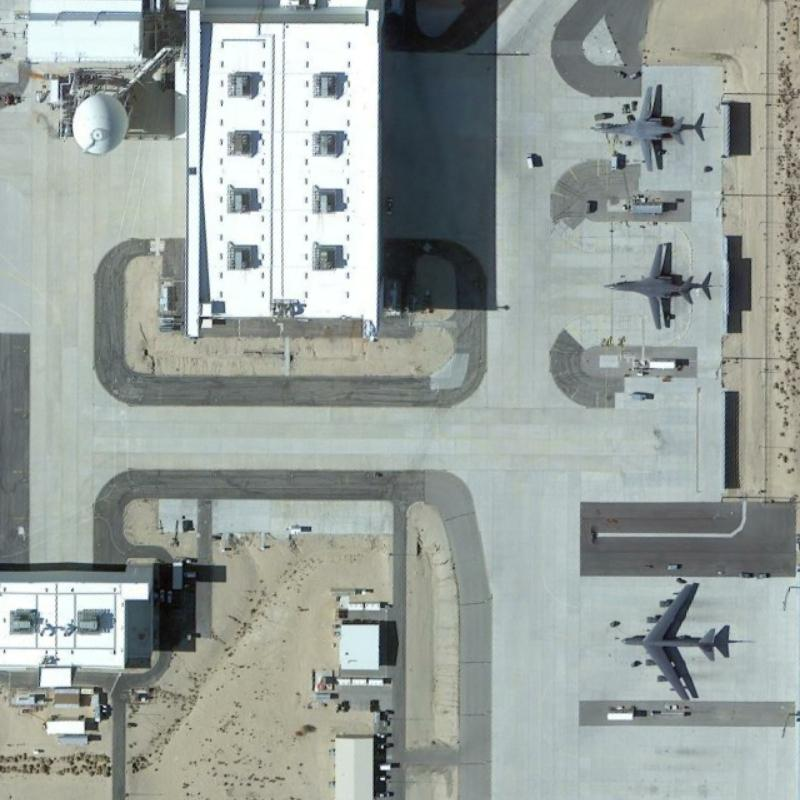A10: (597, 234, 703, 334), (588, 75, 691, 177)
A8: (609, 571, 725, 702)
